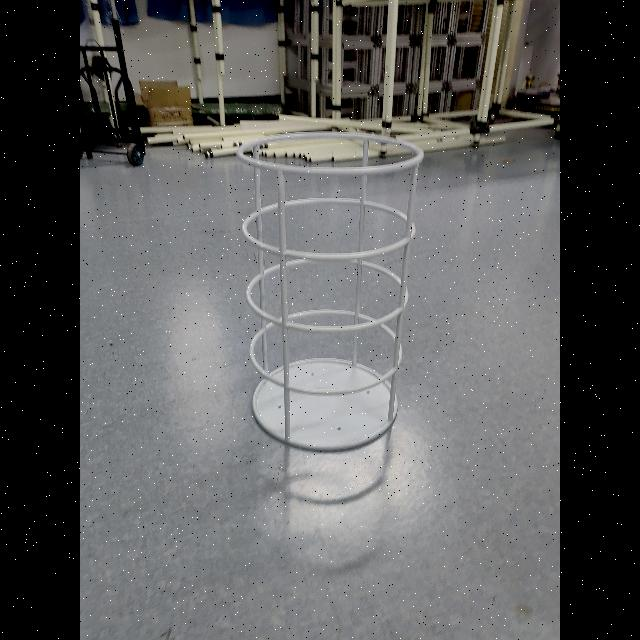S: (235, 126, 429, 454)
